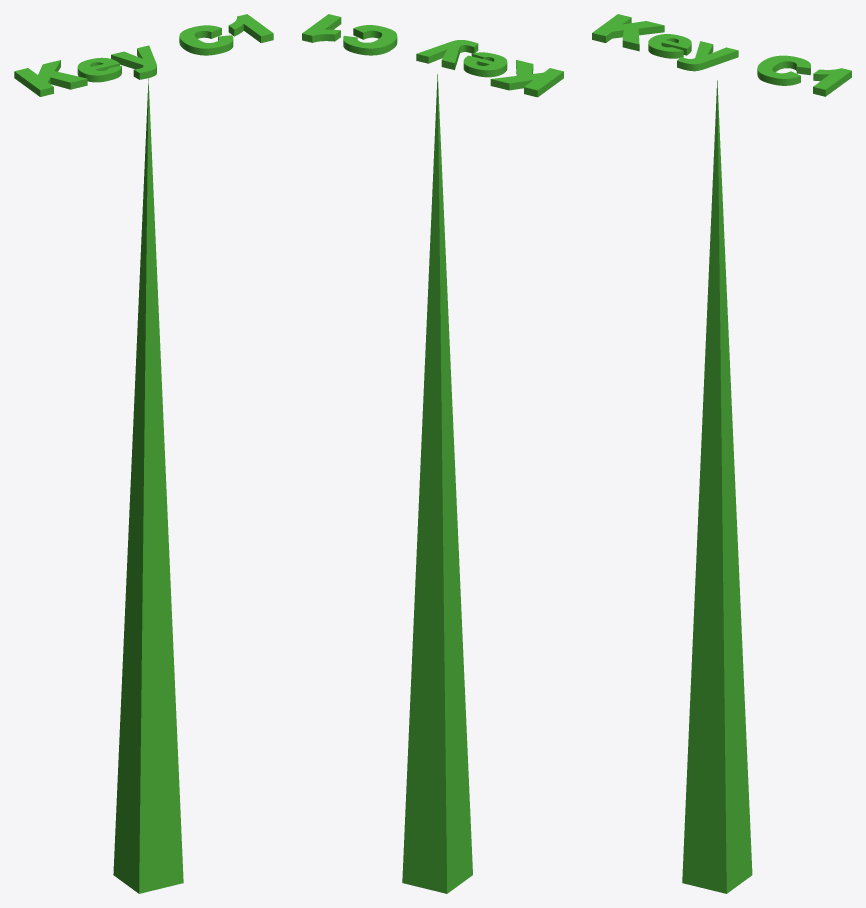
The model's file is Tag_Key_C1.FBX.
3 views of the same model, side by side, from view 1: azimuth 30°, elevation 25°; view 2: azimuth 150°, elevation 25°; view 3: azimuth 330°, elevation 25° (orthographic).
Visible parts, largest first — view 1: Tag_Nail_Key004, Tag_Text_Key_006; view 2: Tag_Nail_Key004, Tag_Text_Key_006; view 3: Tag_Nail_Key004, Tag_Text_Key_006.
Boxes of the visible parts, x1,y1,x2,y2 form: Tag_Nail_Key004: [113, 78, 183, 893]; Tag_Text_Key_006: [14, 14, 273, 96]; Tag_Nail_Key004: [402, 74, 472, 893]; Tag_Text_Key_006: [302, 14, 563, 97]; Tag_Nail_Key004: [682, 80, 752, 893]; Tag_Text_Key_006: [592, 14, 851, 96].
Bounding box in the file's own units: 577 × 1944 × 145.
